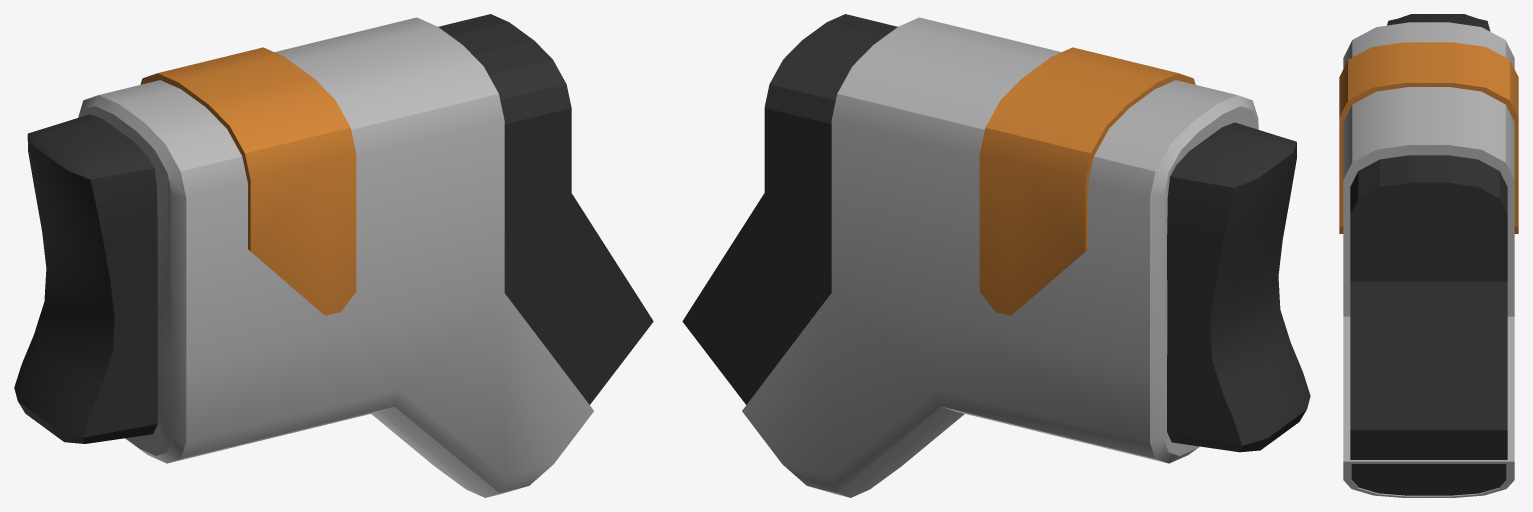
File: Stock_Pistol_3.gltf
The picture shows the model from 3 angles, left to right: view 1: azimuth 30°, elevation 25°; view 2: azimuth 150°, elevation 25°; view 3: azimuth 270°, elevation 25°; orthographic projection. The views are drawn at different scales.
Visible parts, largest first — view 1: Stock_Pistol_3; view 2: Stock_Pistol_3; view 3: Stock_Pistol_3.
Part boxes in pixels (box(x1,y1,x2,y2)): Stock_Pistol_3: box(14, 14, 653, 497); Stock_Pistol_3: box(682, 14, 1310, 497); Stock_Pistol_3: box(1339, 14, 1518, 497).
Bounding box in the file's own units: 0.3248 × 0.2473 × 0.114.
